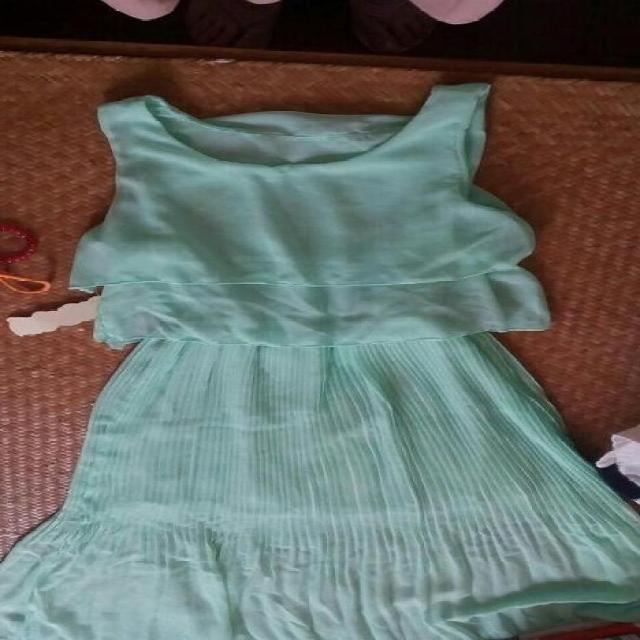vest dress: (0, 84, 640, 640)
